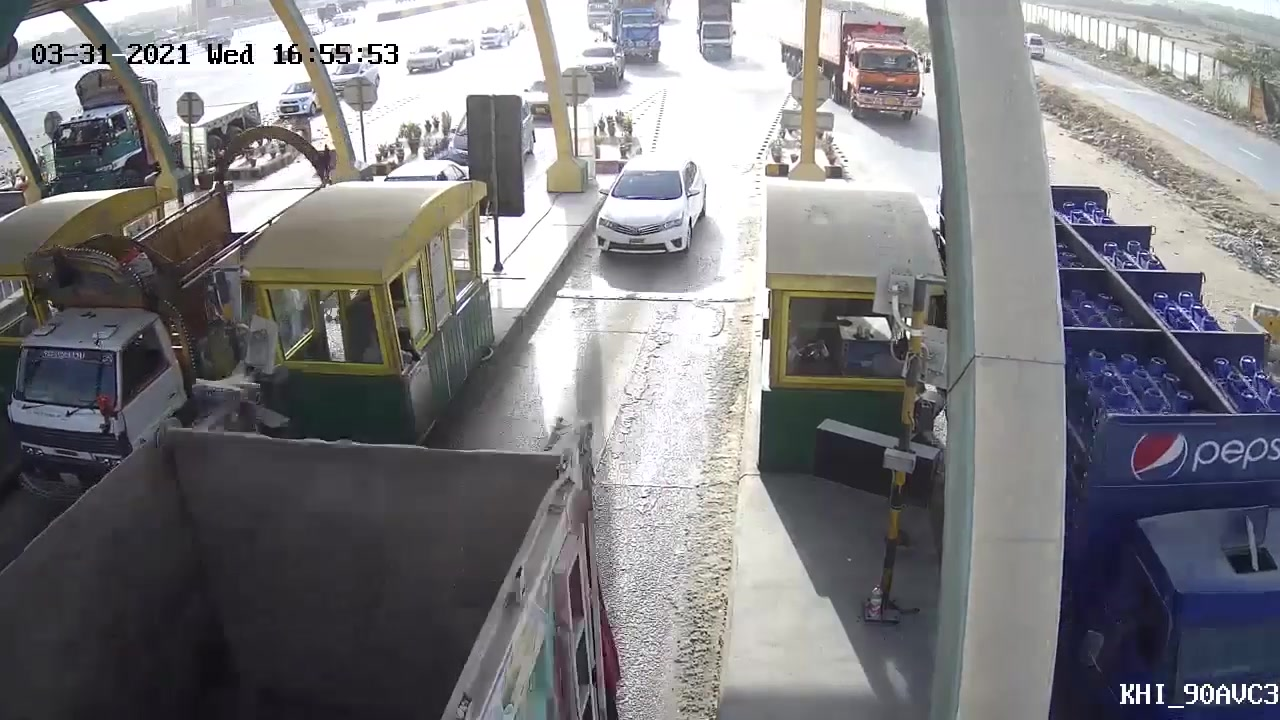F1: (584, 142, 717, 282)
